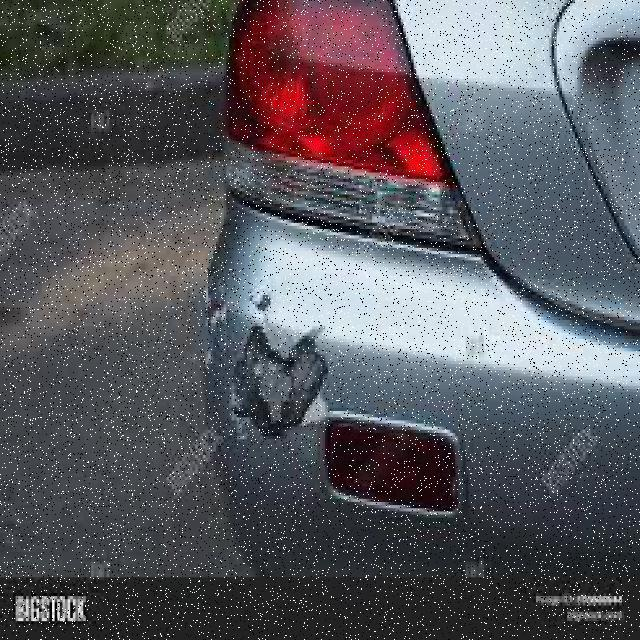rear-bumper-dent: (177, 208, 557, 586)
